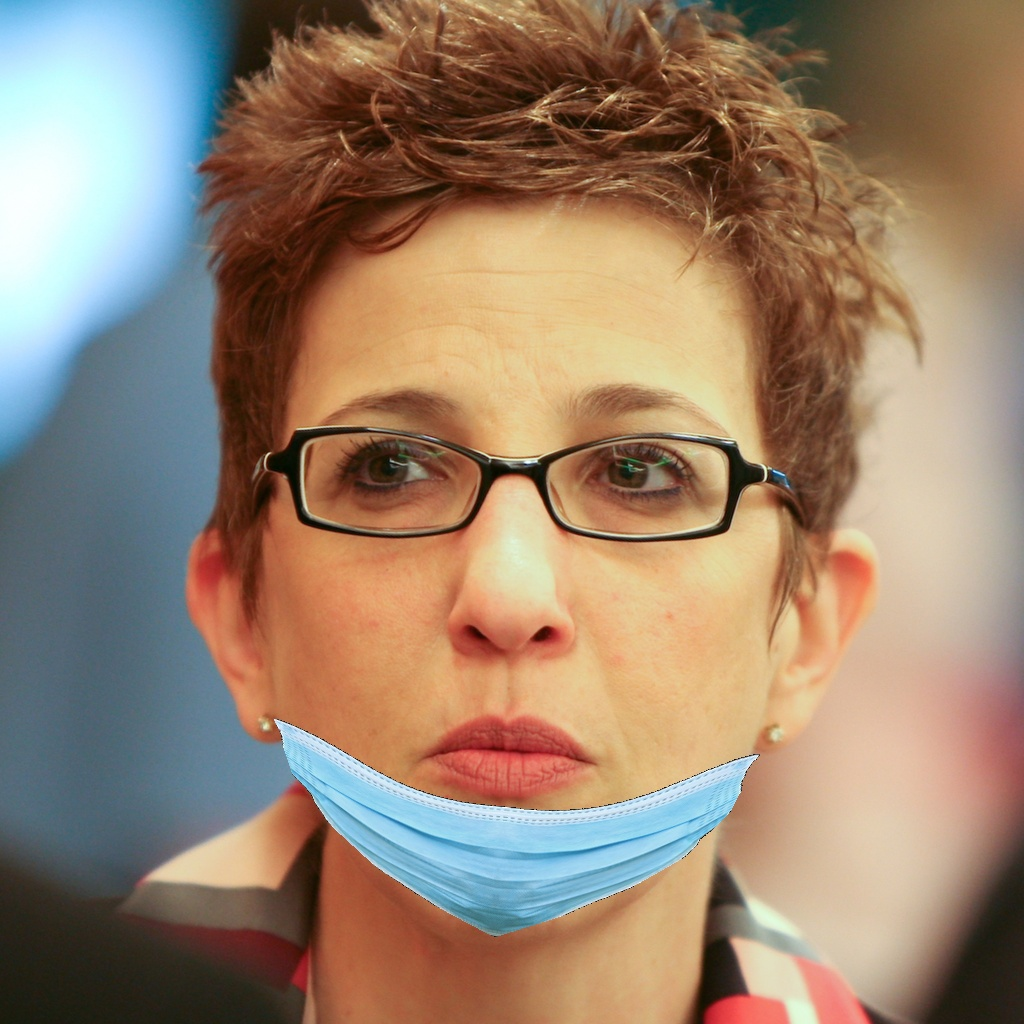mask_weared_incorrect: (235, 358, 809, 946)
